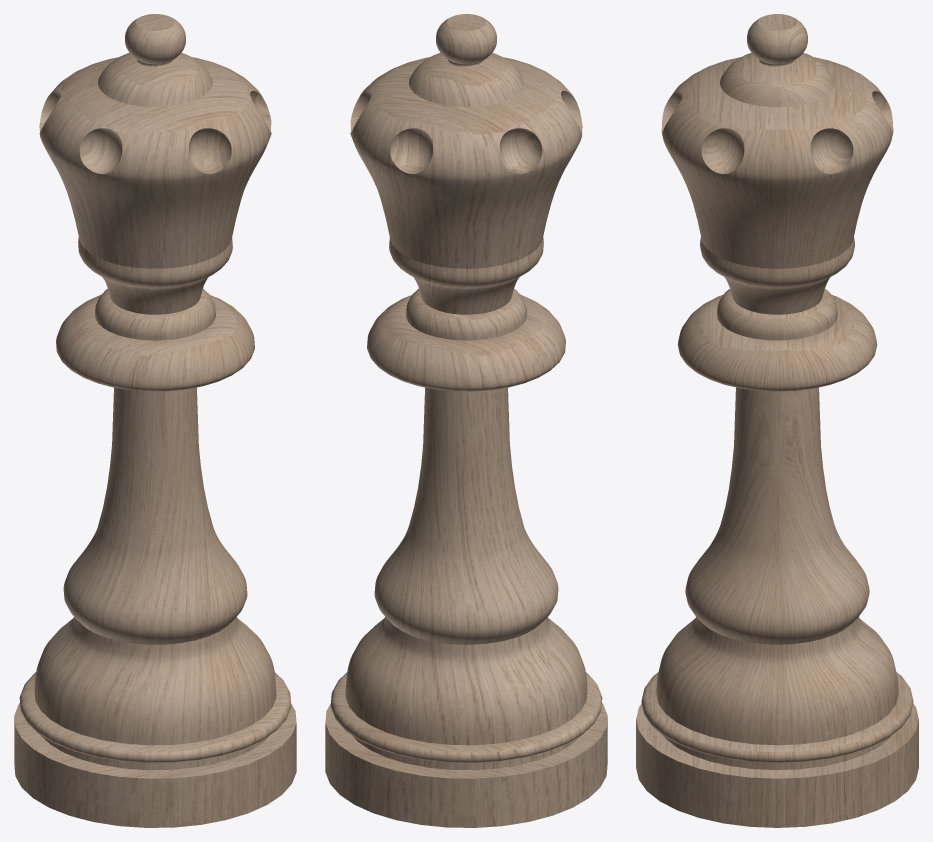
File: white-queen.glb
The picture shows the model from 3 angles, left to right: view 1: azimuth 30°, elevation 25°; view 2: azimuth 150°, elevation 25°; view 3: azimuth 270°, elevation 25°; orthographic projection.
Parts seen in each view (by area): view 1: ScacchiBianchi_Donna.001_white_0; view 2: ScacchiBianchi_Donna.001_white_0; view 3: ScacchiBianchi_Donna.001_white_0.
Part boxes in pixels (x1,y1,x2,y2): ScacchiBianchi_Donna.001_white_0: [14, 14, 296, 827]; ScacchiBianchi_Donna.001_white_0: [325, 14, 607, 827]; ScacchiBianchi_Donna.001_white_0: [636, 14, 918, 827].
Size of the model in its own units: 3.25 by 9.46 by 3.25.
Materials: 1 (1 with a texture image).
